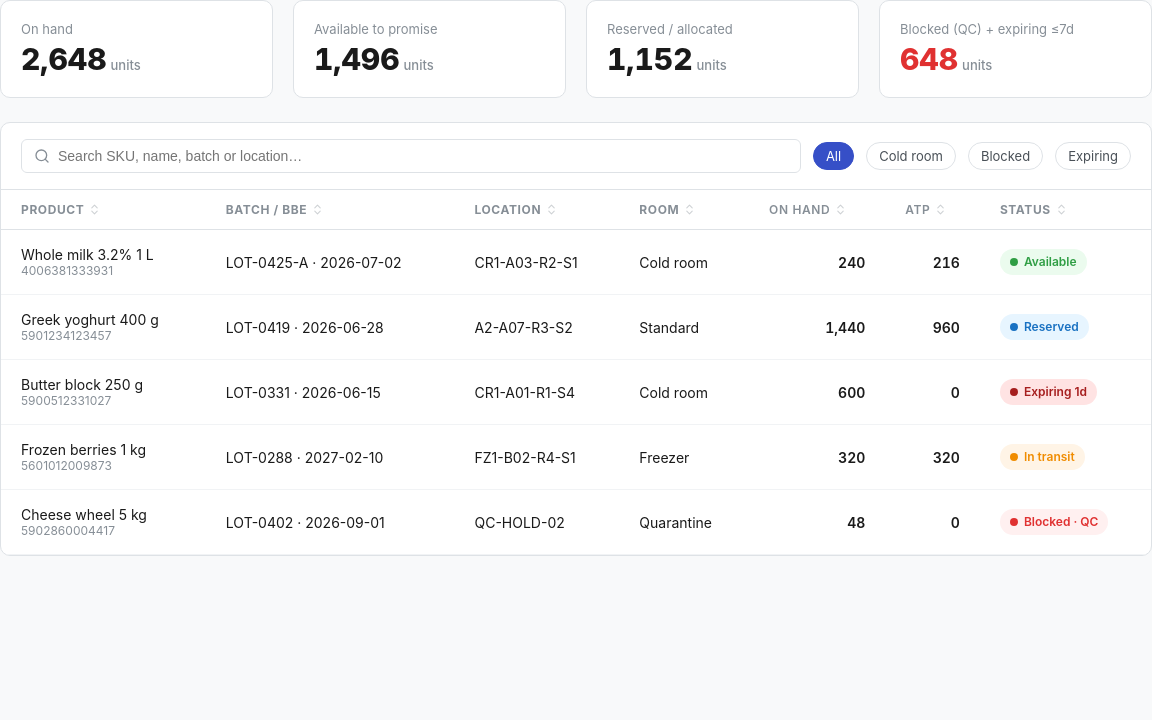
StockScreen › filters to blocked stock via the pill
Expected: the text "Whole milk 3.2% 1 L" is shown, x1=21 y1=246 x2=154 y2=263
What coordinates should you click on to do the following:
click the button "Blocked"
I would click on:
 (1006, 156)
Its box is x1=968 y1=142 x2=1043 y2=170.
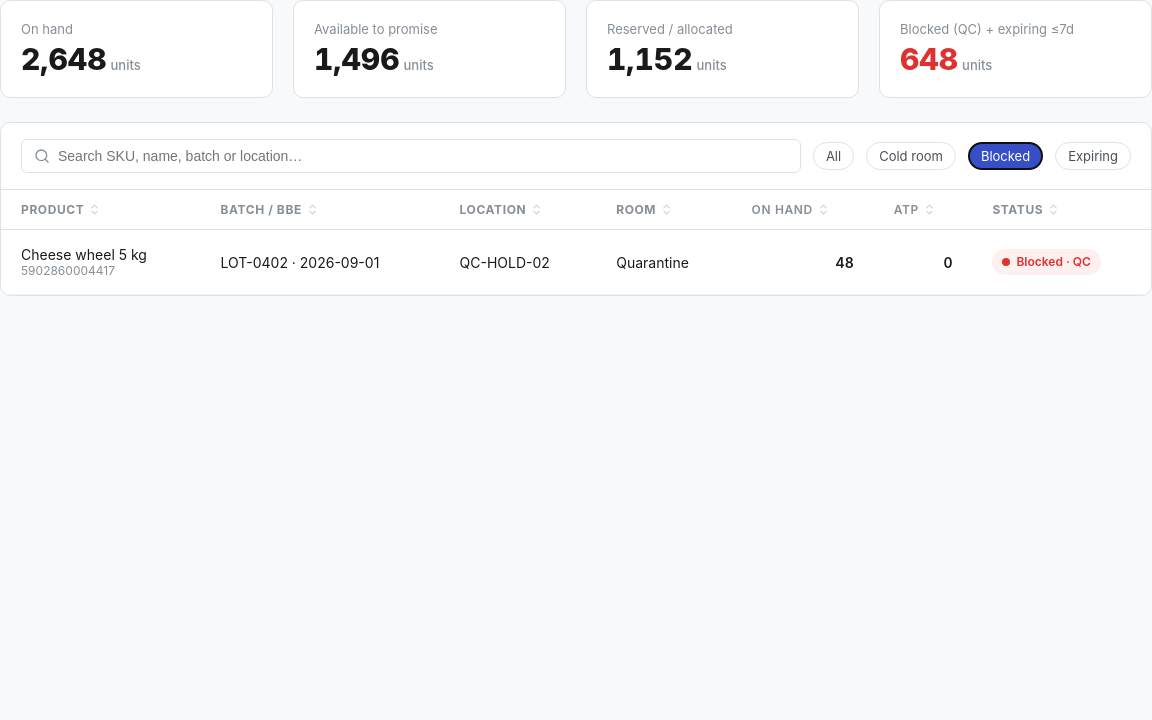
Now the text "Cheese wheel 5 kg" is shown, box x1=21 y1=246 x2=147 y2=263
Now the button "Whole milk 3.2% 1 L" is gone
